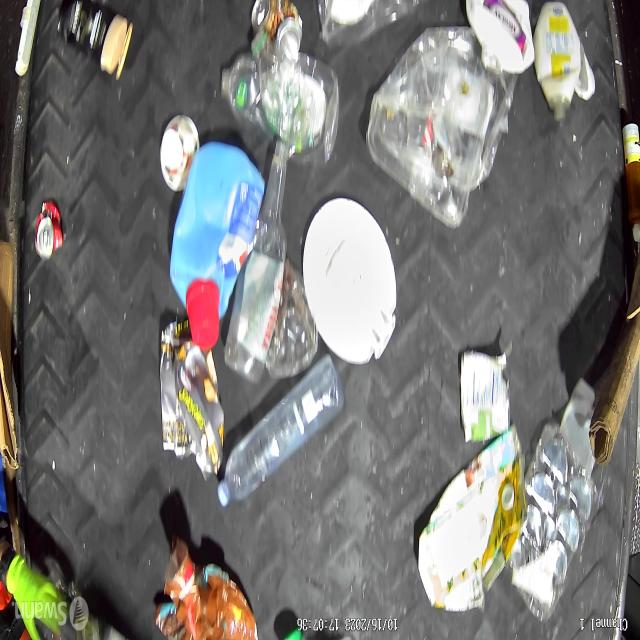can: (459, 348, 511, 446), (250, 0, 305, 43), (34, 192, 63, 262)
non_white_jug: (165, 150, 258, 348)
plastic_bottle: (215, 370, 348, 506), (225, 130, 291, 379), (219, 48, 340, 172)
